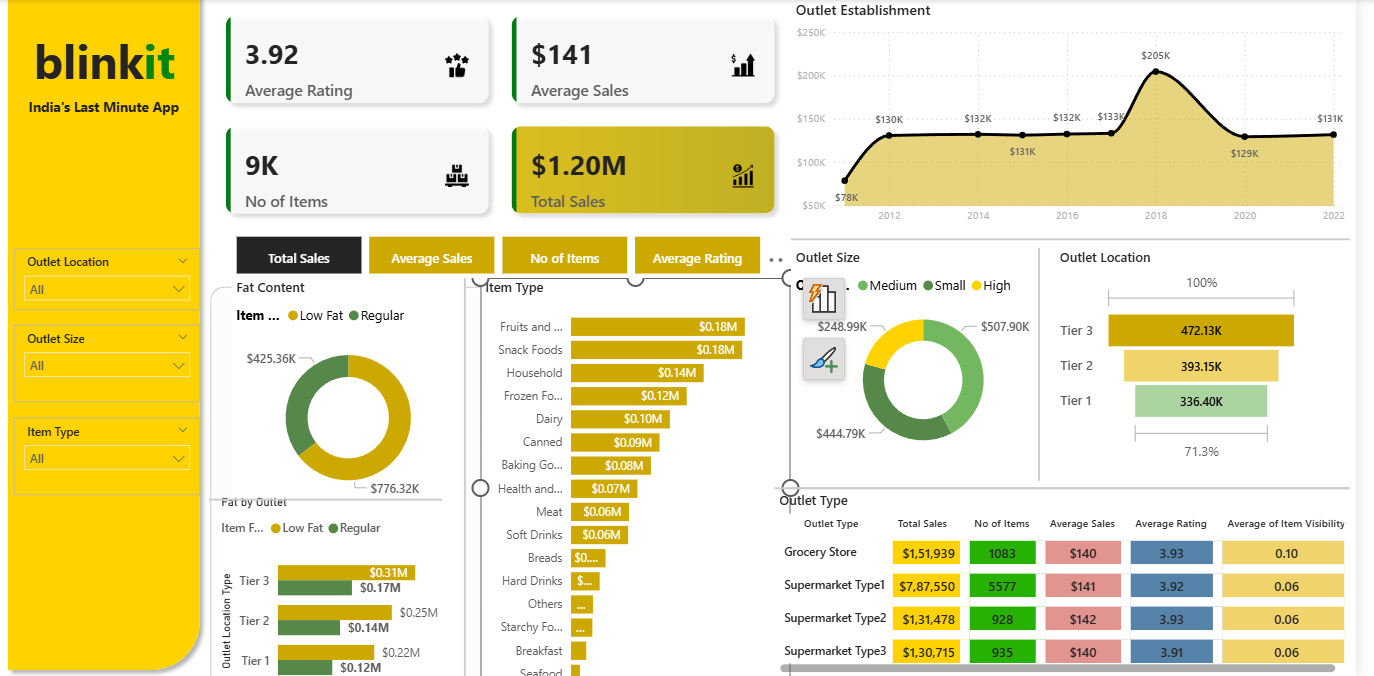

This screenshot's page, from the dashboard's own definition file:
{"tool":"powerbi","page":{"name":"Page 1","canvas":[1400,700],"ordinal":0},"visuals":[{"type":"shape","box":[0,-92,216,792],"z":0},{"type":"textbox","box":[24,24,168,96],"z":1000},{"type":"textbox","box":[0,96,216,48],"z":2000},{"type":"cardVisual","fields":{"Data":["BlinkIT Grocery Data.Average Rating","BlinkIT Grocery Data.Average Sales","BlinkIT Grocery Data.No of Items","BlinkIT Grocery Data.Total Sales"]},"box":[216,0,600,240],"z":3000},{"type":"shape","box":[208,288,608,496],"z":4000},{"type":"donutChart","title":"Fat Content","fields":{"Y":["BlinkIT Grocery Data.Average Rating"],"Category":["BlinkIT Grocery Data.Item Fat Content"]},"box":[240,288,240,240],"z":5000},{"type":"clusteredBarChart","title":"Fat by Outlet","fields":{"Y":["BlinkIT Grocery Data.Average Rating"],"Series":["BlinkIT Grocery Data.Item Fat Content"],"Category":["BlinkIT Grocery Data.Outlet Location Type"]},"box":[224,512,256,208],"z":6000},{"type":"shape","box":[216,504,240,24],"z":7000},{"type":"shape","box":[360,264,240,504],"z":8000},{"type":"barChart","title":"Item Type","fields":{"Y":["BlinkIT Grocery Data.Average Rating"],"Category":["BlinkIT Grocery Data.Item Type"]},"box":[496,288,320,432],"z":9000},{"type":"advancedSlicerVisual","fields":{"Values":["Metrics.Metrics"]},"box":[240,240,552,48],"z":10000},{"type":"lineChart","title":"Outlet Establishment","fields":{"Y":["BlinkIT Grocery Data.Total Sales"],"Category":["BlinkIT Grocery Data.Outlet Establishment Year"]},"box":[816,0,576,240],"z":11000},{"type":"shape","box":[816,240,576,16],"z":12000},{"type":"donutChart","title":"Outlet Size","fields":{"Y":["BlinkIT Grocery Data.Total Sales"],"Category":["BlinkIT Grocery Data.Outlet Size"]},"box":[816,256,272,224],"z":13000},{"type":"shape","box":[1056,256,32,240],"z":14000},{"type":"funnel","title":"Outlet Location","fields":{"Category":["BlinkIT Grocery Data.Outlet Location Type"],"Y":["Sum(BlinkIT Grocery Data.Sales)"]},"box":[1088,256,256,224],"z":15000},{"type":"shape","box":[816,496,576,16],"z":16000},{"type":"pivotTable","title":"Outlet Type","fields":{"Rows":["BlinkIT Grocery Data.Outlet Type"],"Values":["BlinkIT Grocery Data.Total Sales","BlinkIT Grocery Data.No of Items","BlinkIT Grocery Data.Average Sales","BlinkIT Grocery Data.Avg Rating","Avg(BlinkIT Grocery Data.Item Visibility)"]},"box":[800,508,592,192],"z":17000},{"type":"shape","box":[800,496,592,16],"z":18000},{"type":"slicer","fields":{"Values":["BlinkIT Grocery Data.Outlet Location Type"]},"box":[16,256,192,64],"z":18001},{"type":"slicer","title":"Outlet Size","fields":{"Values":["BlinkIT Grocery Data.Outlet Size"]},"box":[16,336,192,80],"z":18002},{"type":"slicer","title":"Outlet Size","fields":{"Values":["BlinkIT Grocery Data.Item Type"]},"box":[16,432,192,80],"z":18003}]}

Visuals, with their boxes in screenshot pixels (x1, y1, x2, y2), scaled from the page's 1400x700 canvas onto the 1374x676 screenshot:
shape: (0,0,212,675)
textbox: (24,23,188,116)
textbox: (0,93,212,139)
cardVisual - BlinkIT Grocery Data.Average Rating x BlinkIT Grocery Data.Average Sales: (212,0,801,232)
shape: (204,278,801,675)
"Fat Content" donutChart: (236,278,471,510)
"Fat by Outlet" clusteredBarChart: (220,494,471,675)
shape: (212,487,448,510)
shape: (353,255,589,675)
"Item Type" barChart: (487,278,801,675)
advancedSlicerVisual - Metrics.Metrics: (236,232,777,278)
"Outlet Establishment" lineChart: (801,0,1366,232)
shape: (801,232,1366,247)
"Outlet Size" donutChart: (801,247,1068,464)
shape: (1036,247,1068,479)
"Outlet Location" funnel: (1068,247,1319,464)
shape: (801,479,1366,494)
"Outlet Type" pivotTable: (785,491,1366,675)
shape: (785,479,1366,494)
slicer - BlinkIT Grocery Data.Outlet Location Type: (16,247,204,309)
"Outlet Size" slicer: (16,324,204,402)
"Outlet Size" slicer: (16,417,204,494)
